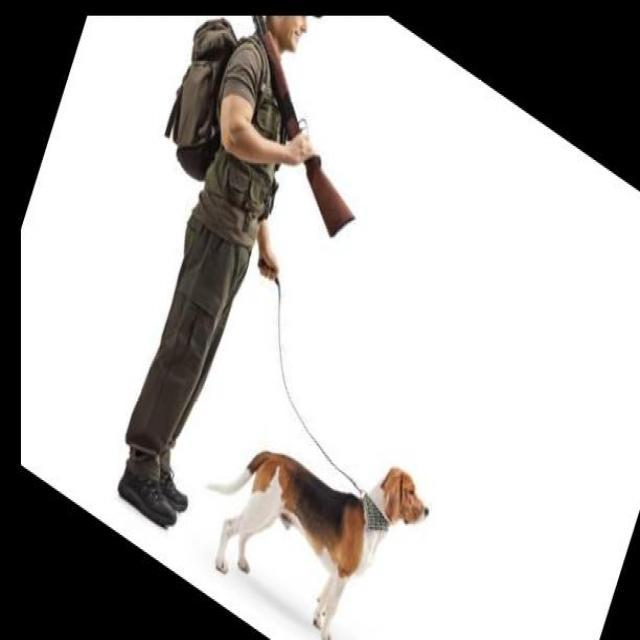weapon: (252, 16, 356, 238)
